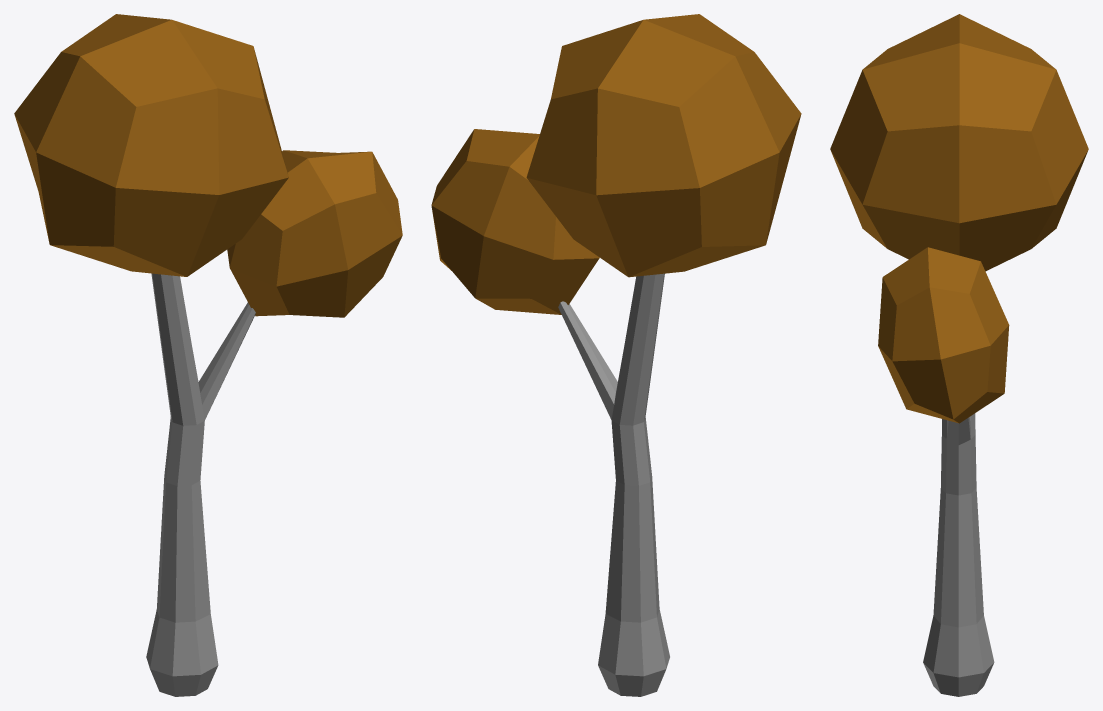
File: Tree2.FBX
3 renders of one model, left to right at view 1: azimuth 30°, elevation 25°; view 2: azimuth 150°, elevation 25°; view 3: azimuth 270°, elevation 25°, orthographic. The views are drawn at different scales.
Visible parts, largest first — view 1: tree_2_leaves_001, tree_2_leaves_002, tree_2_trunk; view 2: tree_2_leaves_001, tree_2_trunk, tree_2_leaves_002; view 3: tree_2_leaves_001, tree_2_leaves_002, tree_2_trunk.
Part boxes in pixels (x1,y1,x2,y2): tree_2_leaves_001: (14,14,288,276); tree_2_leaves_002: (227,150,402,317); tree_2_trunk: (146,273,255,696); tree_2_leaves_001: (526,14,801,277); tree_2_trunk: (558,273,669,696); tree_2_leaves_002: (431,129,599,314); tree_2_leaves_001: (830,14,1088,271); tree_2_leaves_002: (878,247,1009,423); tree_2_trunk: (923,413,994,696).
Size of the model in its own units: 111 by 201 by 73.64.
